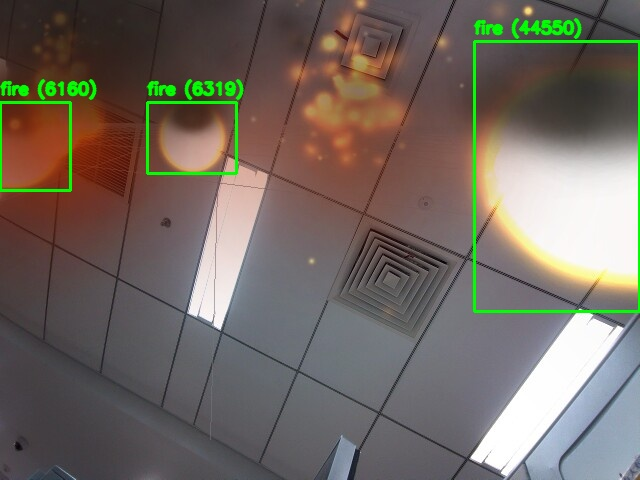fire: (474, 41, 639, 311), (147, 102, 236, 173), (0, 102, 70, 190)
